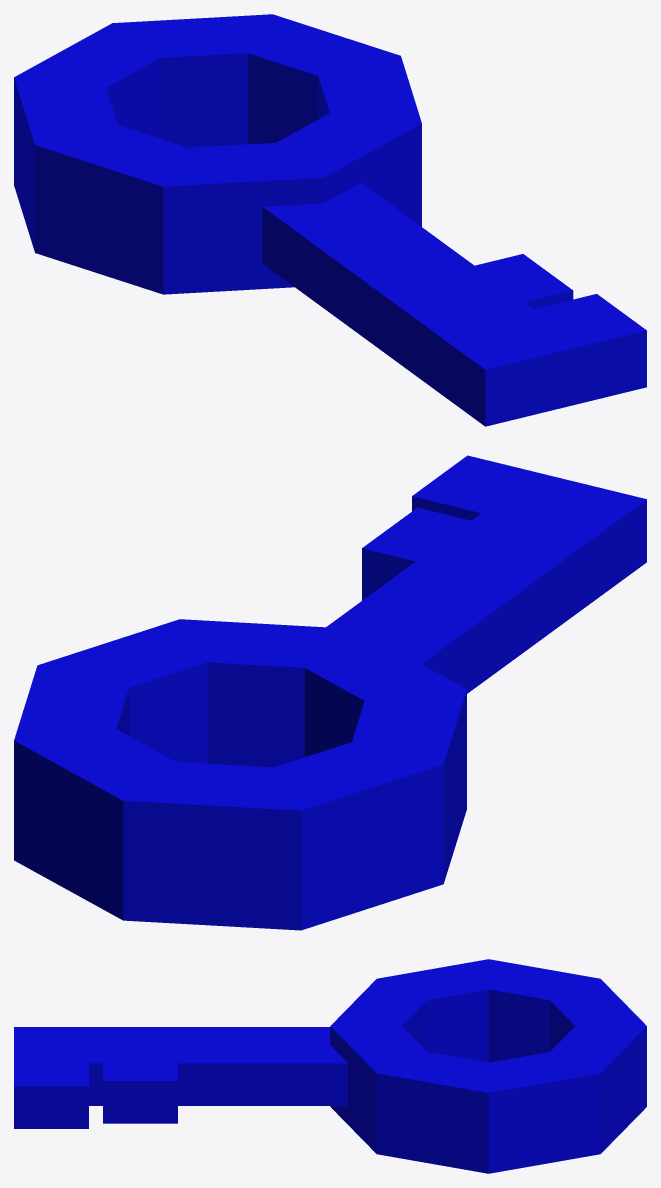
File: Blue Key.fbx
3 renders of one model, top to bottom at view 1: azimuth 30°, elevation 25°; view 2: azimuth 150°, elevation 25°; view 3: azimuth 270°, elevation 25°, orthographic. The views are drawn at different scales.
Parts seen in each view (by area): view 1: Cylinder; view 2: Cylinder; view 3: Cylinder.
Part boxes in pixels (left/top/right/bottom): Cylinder: left=14, top=14, right=646, bottom=426; Cylinder: left=14, top=455, right=646, bottom=930; Cylinder: left=14, top=959, right=646, bottom=1173.
Bounding box in the file's own units: 0.3973 × 0.7944 × 0.112.
